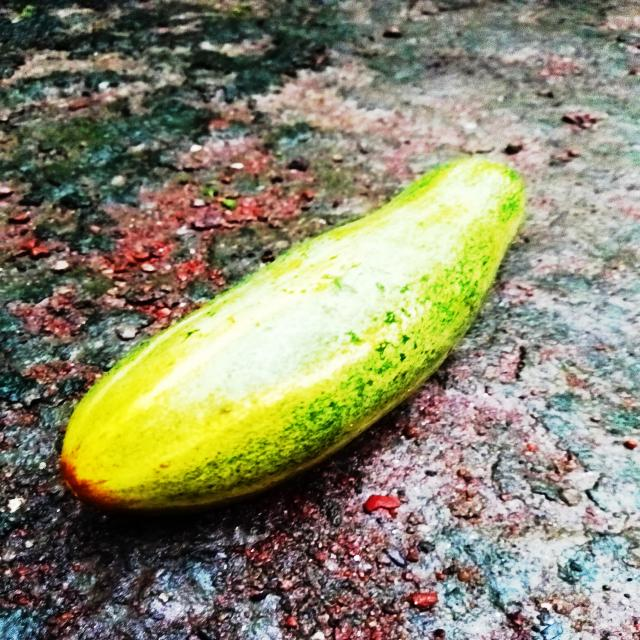Fresh-Cucumber: (51, 144, 528, 515)
